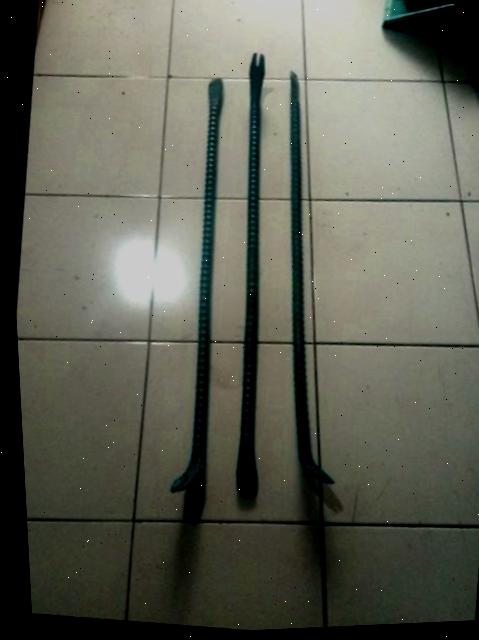crow bar: (226, 67, 394, 506), (134, 53, 262, 507), (189, 27, 310, 507)
